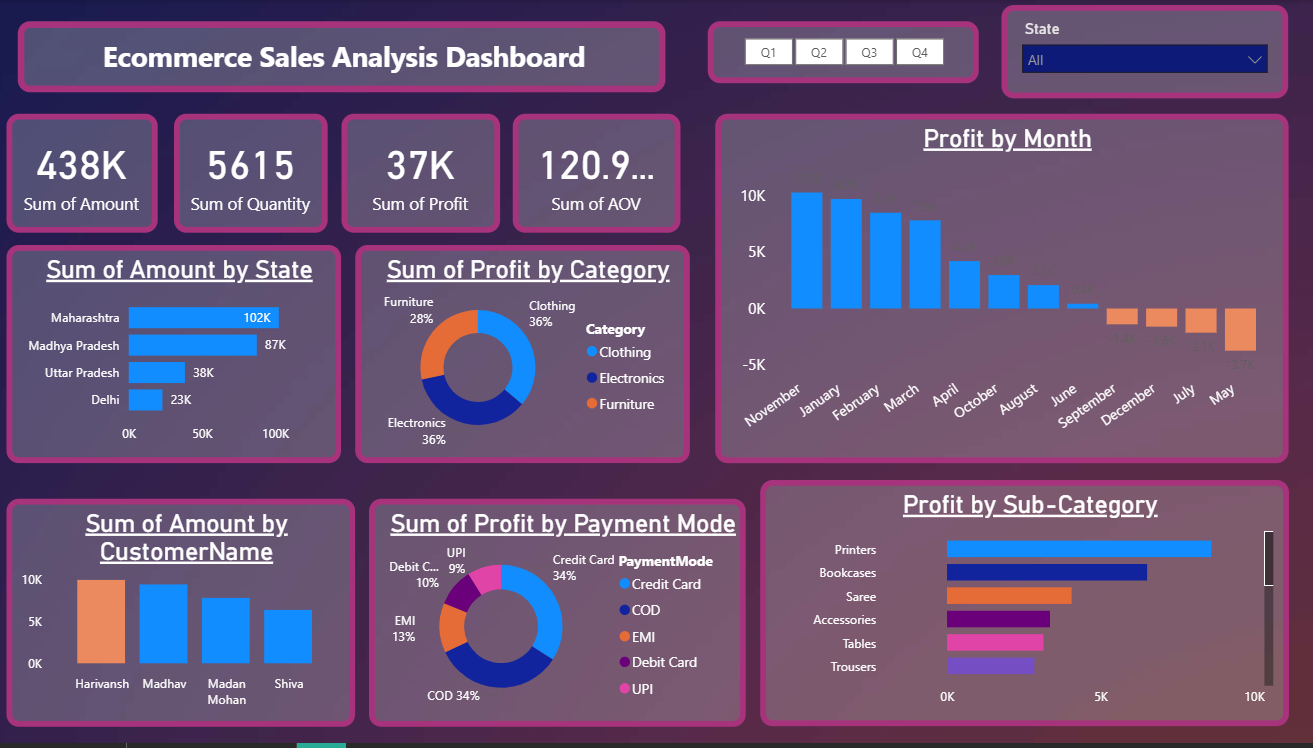

What the dashboard file says about the page in this screenshot:
{"tool":"powerbi","page":{"name":"Ecommerce_Sales","canvas":[1280,720],"ordinal":0},"visuals":[{"type":"card","fields":{"Values":["Details.Amount"]},"box":[12.5,110,146.2,115],"z":0},{"type":"card","fields":{"Values":["Details.Quantity"]},"box":[173.8,110,148.8,115],"z":1000},{"type":"card","fields":{"Values":["Details.Profit"]},"box":[336.2,110,153.8,115],"z":2000},{"type":"card","fields":{"Values":["Details.AOV"]},"box":[502.5,110,162.5,115],"z":3000},{"type":"textbox","box":[22.5,20,627.5,68.8],"z":4000},{"type":"barChart","fields":{"Category":["Orders.State"],"Y":["Details.Amount"]},"box":[12.3,237.4,323.8,211.3],"z":5000},{"type":"donutChart","fields":{"Y":["Details.Profit"],"Category":["Details.Category"]},"box":[350,237.5,323.8,211.2],"z":6000},{"type":"donutChart","title":"Sum of Profit by Payment Mode","fields":{"Y":["Details.Profit"],"Category":["Details.PaymentMode"]},"box":[363.6,483,365,220.9],"z":7000},{"type":"columnChart","fields":{"Y":["Details.Amount"],"Category":["Orders.CustomerName"]},"box":[12.3,483,337.6,220.9],"z":8000},{"type":"columnChart","title":"Profit by Month","fields":{"Category":["Orders.Month Name"],"Y":["Details.Profit"]},"box":[698.8,110,555,338.8],"z":9000},{"type":"barChart","title":"Profit by Sub-Category","fields":{"Category":["Details.Sub-Category"],"Y":["Details.Profit"],"Series":["Details.Sub-Category"]},"box":[742.4,465.2,511.8,238.8],"z":10000},{"type":"slicer","fields":{"Values":["Orders.Quater"]},"box":[691.2,20,262.5,60],"z":11000},{"type":"slicer","fields":{"Values":["Orders.State"]},"box":[976.2,5,277.5,90],"z":12000}]}

Visuals, with their boxes in screenshot pixels (x1, y1, x2, y2), scaled from the page's 1280x720 canvas onto the 1313x748 screenshot:
card - Details.Amount: bbox=[13, 114, 163, 234]
card - Details.Quantity: bbox=[178, 114, 331, 234]
card - Details.Profit: bbox=[345, 114, 503, 234]
card - Details.AOV: bbox=[515, 114, 682, 234]
textbox: bbox=[23, 21, 667, 92]
barChart - Orders.State x Details.Amount: bbox=[13, 247, 345, 466]
donutChart - Details.Profit x Details.Category: bbox=[359, 247, 691, 466]
"Sum of Profit by Payment Mode" donutChart: bbox=[373, 502, 747, 731]
columnChart - Details.Amount x Orders.CustomerName: bbox=[13, 502, 359, 731]
"Profit by Month" columnChart: bbox=[717, 114, 1286, 466]
"Profit by Sub-Category" barChart: bbox=[762, 483, 1287, 731]
slicer - Orders.Quater: bbox=[709, 21, 978, 83]
slicer - Orders.State: bbox=[1001, 5, 1286, 99]
